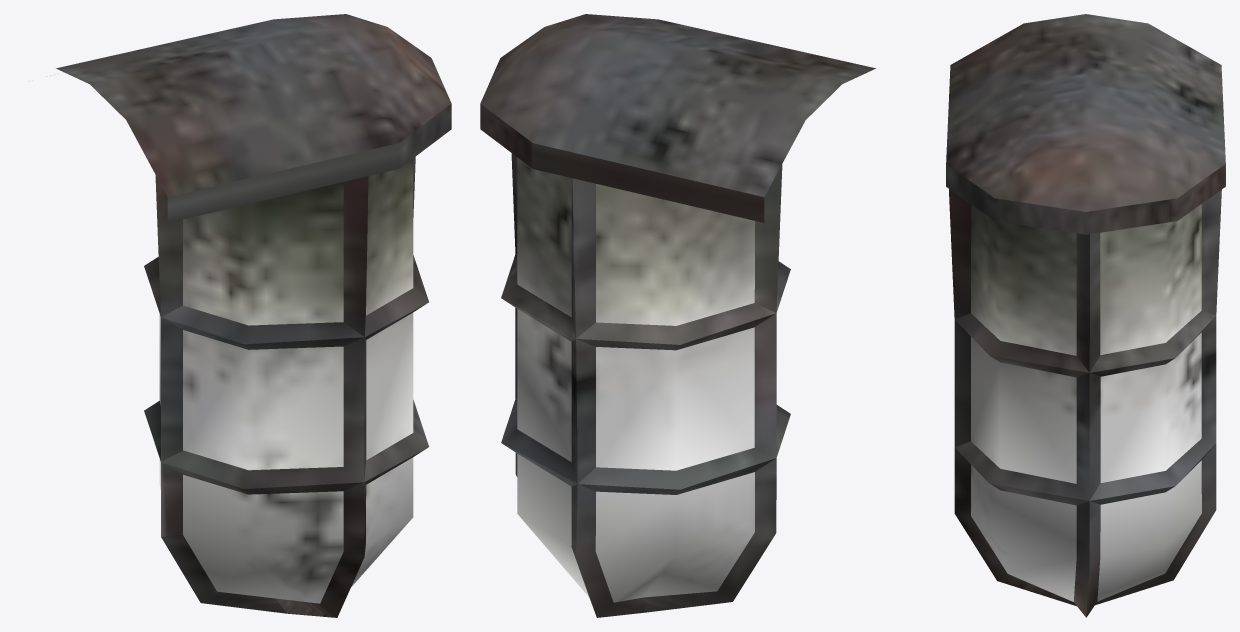
Rendered from light_cagelight02_on.glb.
3 renders of one model, left to right at view 1: azimuth 30°, elevation 25°; view 2: azimuth 150°, elevation 25°; view 3: azimuth 270°, elevation 25°, orthographic. The views are drawn at different scales.
Parts seen in each view (by area): view 1: 0_cagebulb01; view 2: 0_cagebulb01; view 3: 0_cagebulb01.
Boxes of the visible parts, x1=… form: 0_cagebulb01: x1=56, y1=14, x2=451, y2=617; 0_cagebulb01: x1=480, y1=14, x2=875, y2=617; 0_cagebulb01: x1=946, y1=14, x2=1225, y2=617.
Size of the model in its own units: 0.1836 by 0.296 by 0.1472.
Materials: 1 (1 with a texture image).
